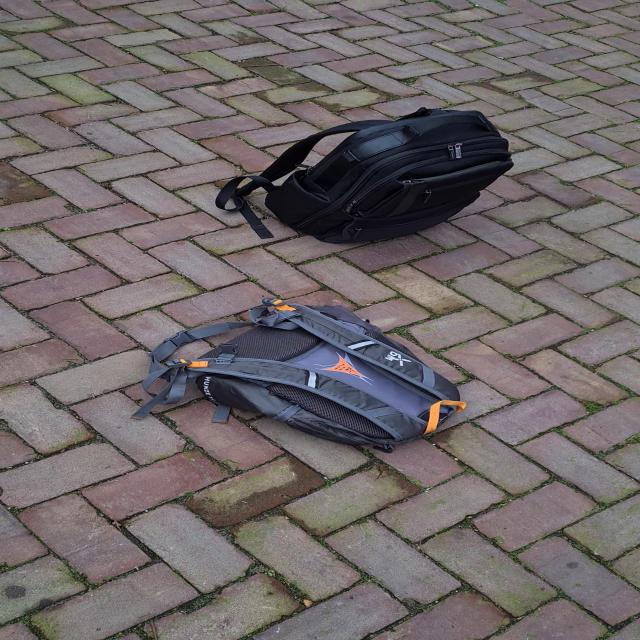backpack: (132, 298, 467, 460), (256, 104, 519, 252)
